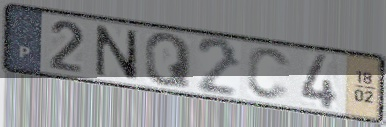2: (194, 35, 245, 100), (47, 19, 87, 76)
4: (299, 53, 341, 111)
C: (244, 46, 294, 103)
N: (93, 23, 141, 83)
Q: (143, 32, 194, 91)
